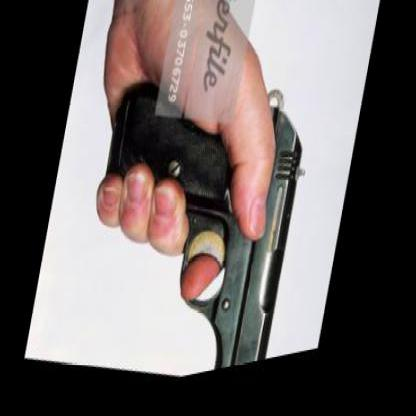pistol: (73, 9, 331, 399)
